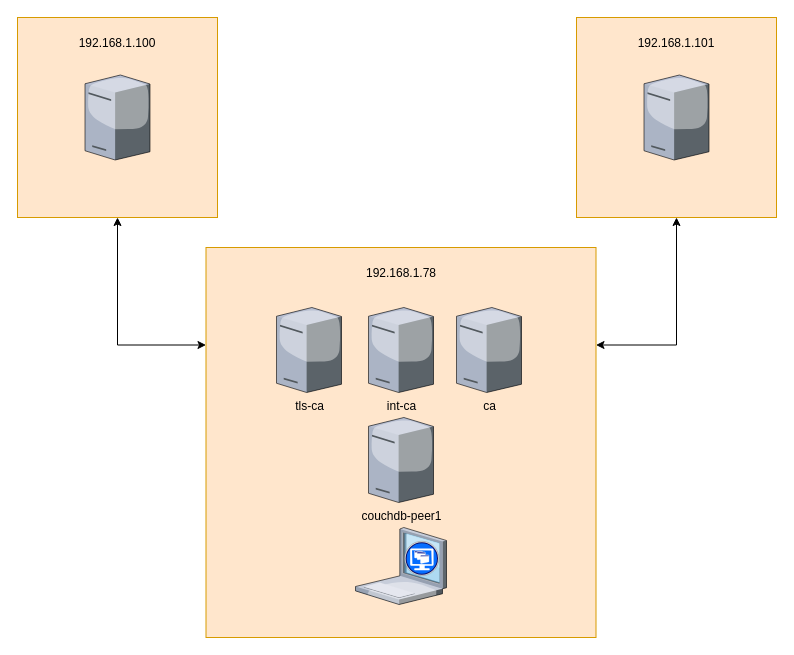
The diagram is 794 pixels wide and 655 high, and some of its shapes have lost their labels. Each missing label, with the centre of its shape:
hyperledger caliper: (400,565)
Orderer: (676,117)
peer1: (117,117)
